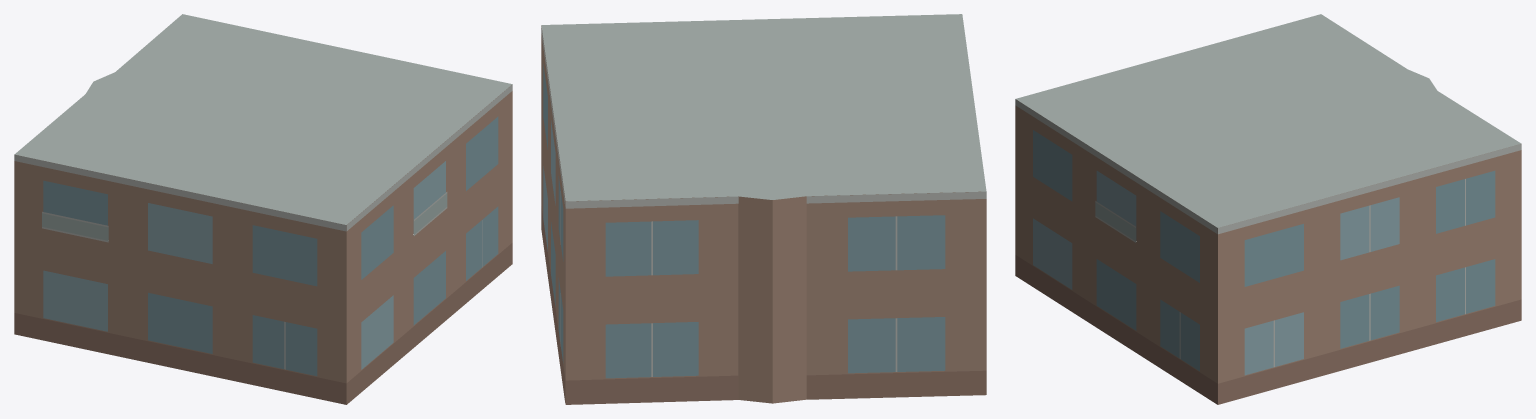
Rendered from survey-upis-32971389.glb.
3 renders of one model, left to right at view 1: azimuth 30°, elevation 25°; view 2: azimuth 150°, elevation 25°; view 3: azimuth 270°, elevation 25°, orthographic. The views are drawn at different scales.
Parts seen in each view (by area): view 1: survey-upis-32971389.tmp; view 2: survey-upis-32971389.tmp; view 3: survey-upis-32971389.tmp.
Part boxes in pixels (x1,y1,x2,y2): survey-upis-32971389.tmp: (14,14,512,404); survey-upis-32971389.tmp: (541,14,986,404); survey-upis-32971389.tmp: (1015,14,1521,404).
Bounding box in the file's own units: 17.66 × 6.8 × 17.65.
